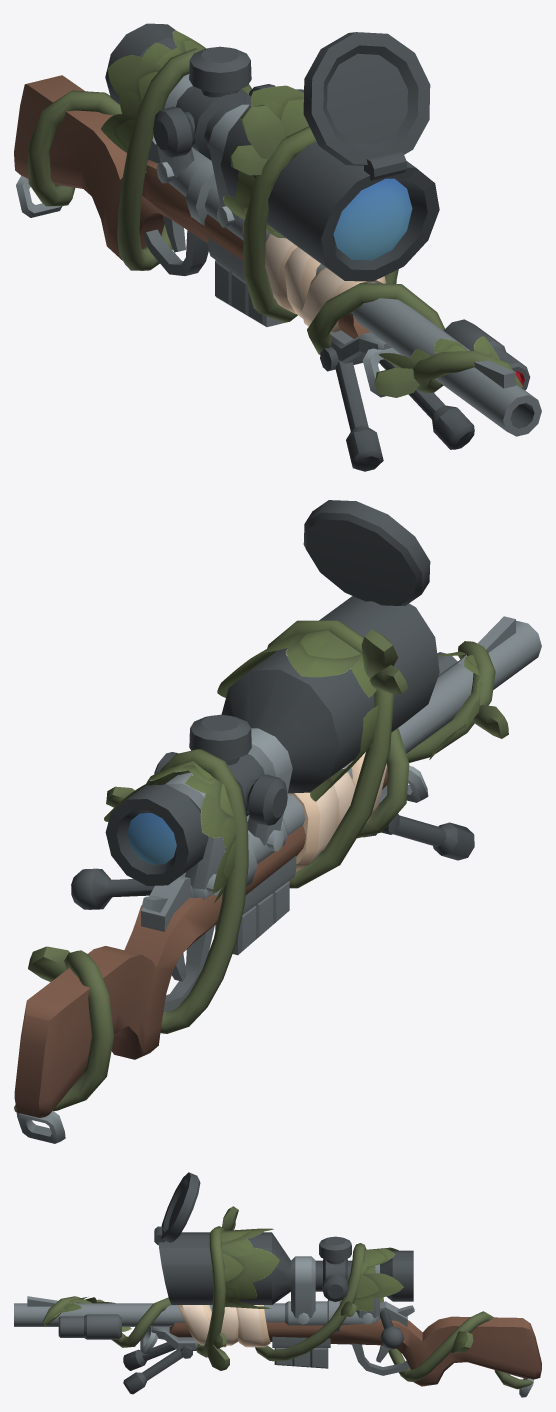
File: Marksman_Rifle.gltf
The picture shows the model from 3 angles, top to bottom: view 1: azimuth 30°, elevation 25°; view 2: azimuth 150°, elevation 25°; view 3: azimuth 270°, elevation 25°; orthographic projection. The views are drawn at different scales.
Visible parts, largest first — view 1: Marksman_Rifle, Marksman_Rifle_Ghilliewrap; view 2: Marksman_Rifle, Marksman_Rifle_Ghilliewrap; view 3: Marksman_Rifle, Marksman_Rifle_Ghilliewrap.
Boxes of the visible parts, box(x1,y1,x2,y2) form: Marksman_Rifle: box(14, 23, 541, 471); Marksman_Rifle_Ghilliewrap: box(27, 30, 522, 397); Marksman_Rifle: box(14, 500, 541, 1143); Marksman_Rifle_Ghilliewrap: box(14, 620, 508, 1112); Marksman_Rifle: box(14, 1172, 541, 1397); Marksman_Rifle_Ghilliewrap: box(43, 1206, 532, 1389).
Bounding box in the file's own units: 0.4949 × 1.04 × 2.27.
Materials: 2 (2 with a texture image).
